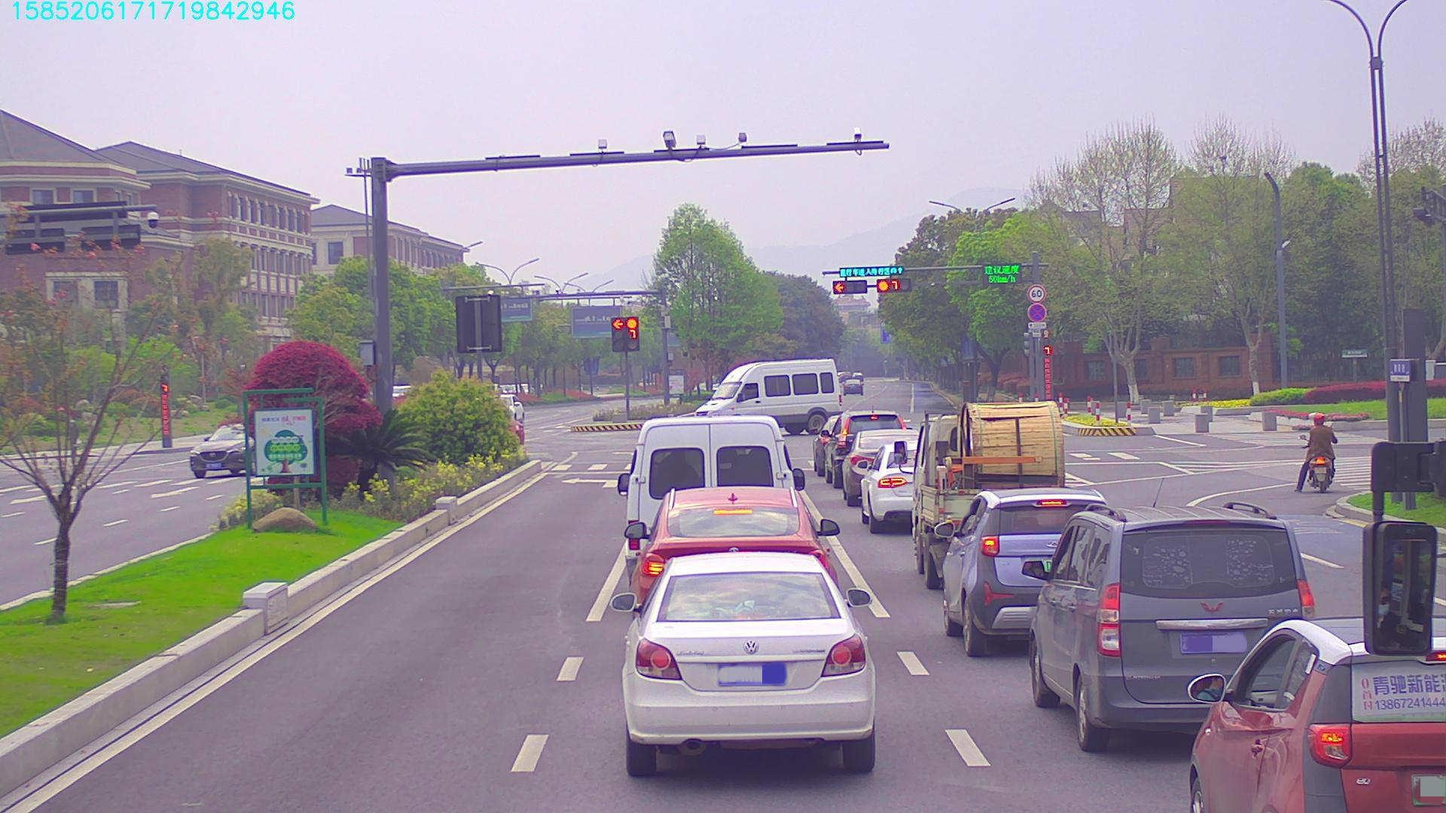red: (832, 278, 868, 294), (875, 278, 908, 291)
wait_on: (837, 266, 911, 275)
